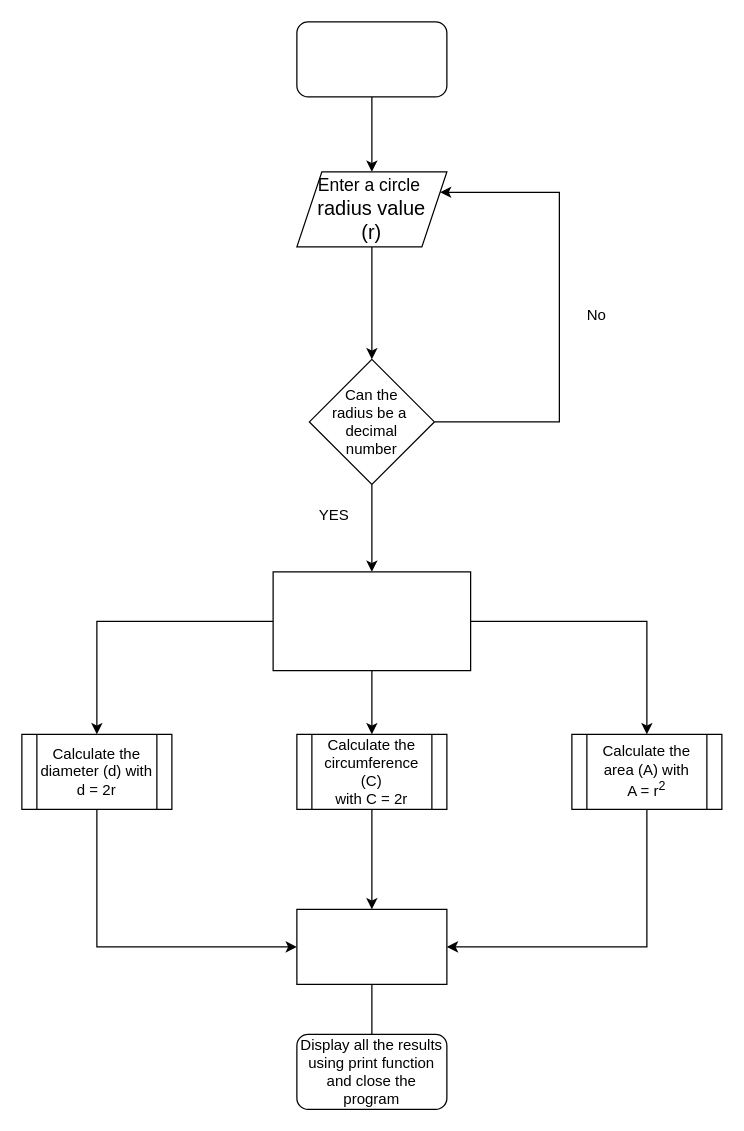
This 744x1131 diagram has some shape labels left out. Here are the shapes that lost their labels. From the top down, the centre of each, then its label:
(x=371, y=59): START
(x=371, y=621): Make necessary calculation based on specific formulas
(x=371, y=946): Group all calculation results based on radius value using concatenation
